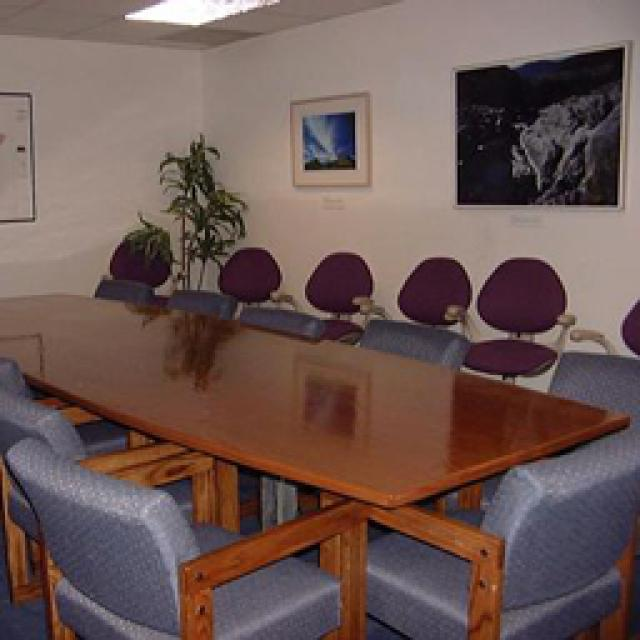ceiling lamps: (125, 0, 272, 25)
chair: (545, 345, 635, 412), (392, 255, 470, 330), (300, 250, 370, 330), (358, 318, 462, 365), (220, 245, 278, 298), (235, 302, 322, 335), (105, 232, 170, 275), (92, 272, 155, 302), (162, 288, 235, 312)
chair -occluded-: (462, 252, 575, 375)
chair crop: (5, 430, 362, 638), (365, 422, 635, 638)
chair seat: (0, 386, 172, 465), (568, 298, 635, 350)
conference table: (0, 285, 628, 502)
painting crop: (452, 42, 622, 205), (288, 90, 365, 180)
plant -x: (155, 135, 242, 282)
whte board: (0, 90, 35, 222)
